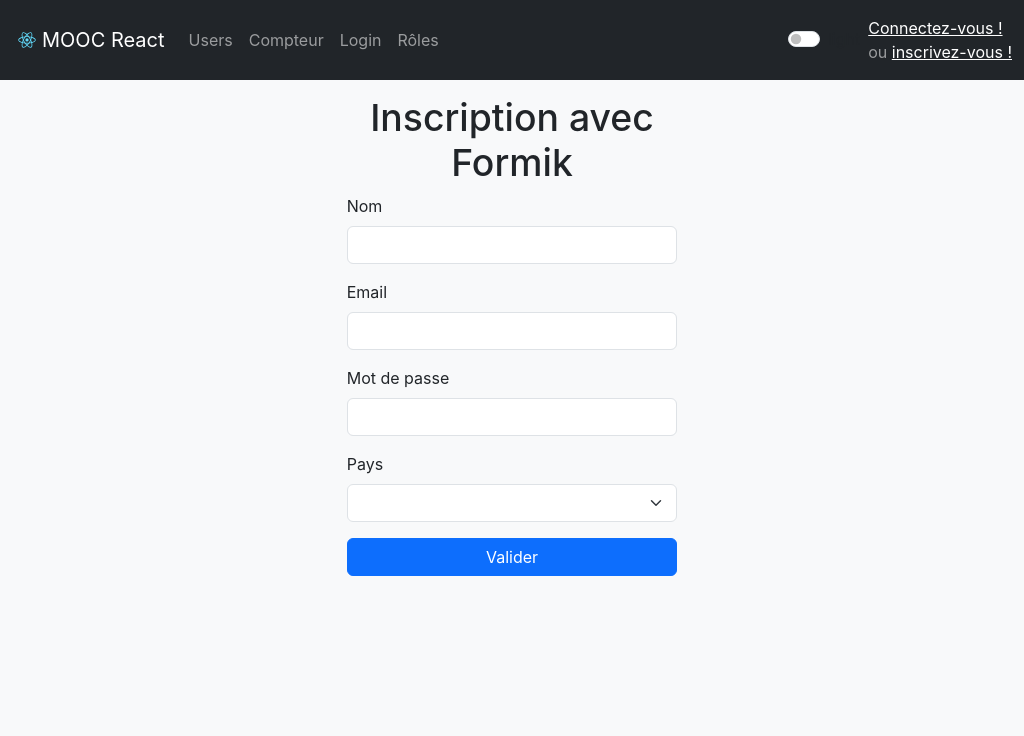
Test: Inscription › devrait afficher une erreur si le nom est trop court
This screenshot has width=1024, height=736.
Type "q" into the field with id "name" at (513, 245), box [347,226,678,264]
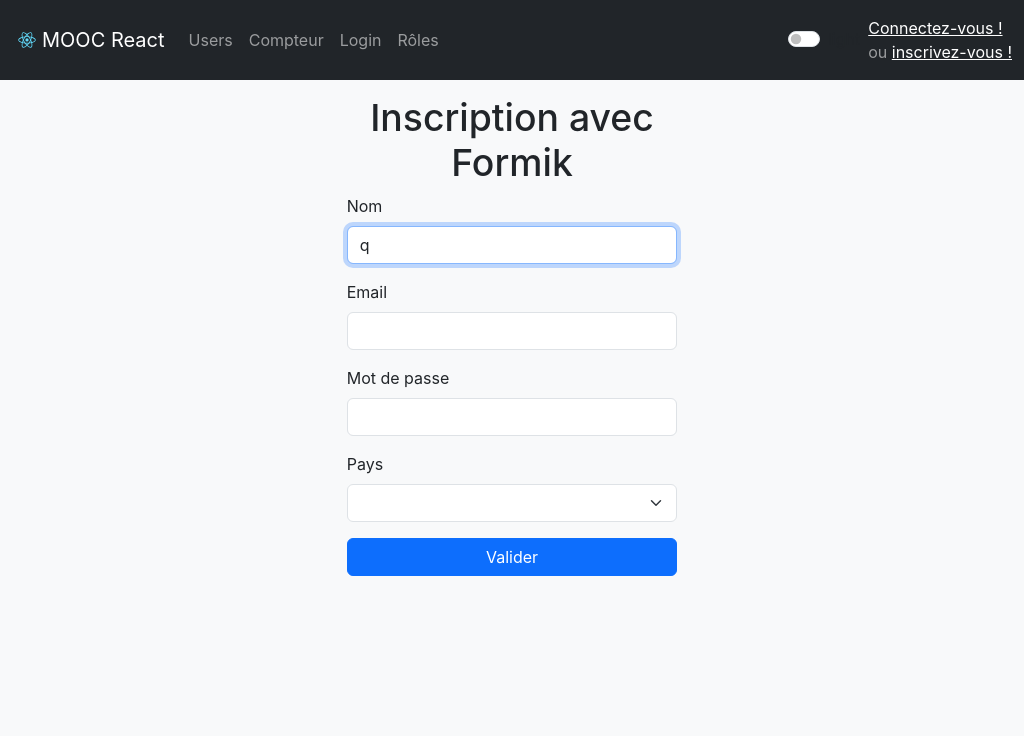
Click the submit button at (513, 557), box [347,538,678,576]
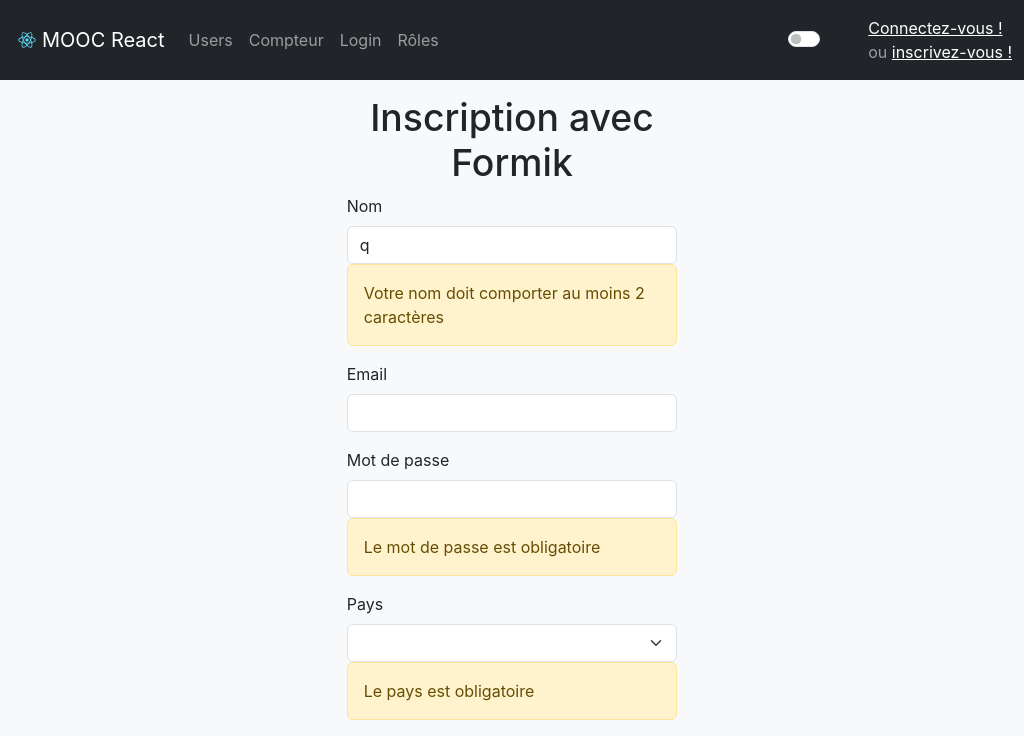
Check: the text with class "name" reads "Votre nom doit comporter au moins 2 caractères", box [347,264,678,346]
